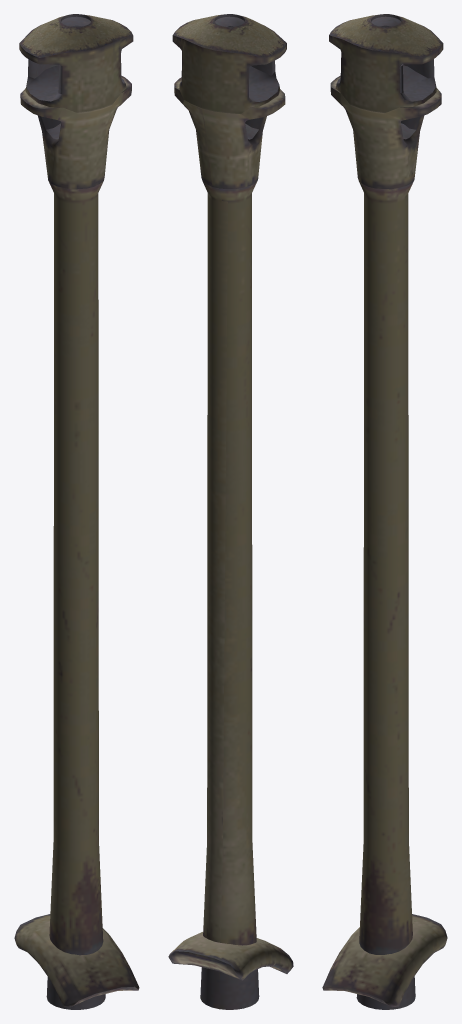
The model's file is Gun_06.glb.
3 views of the same model, side by side, from view 1: azimuth 30°, elevation 25°; view 2: azimuth 150°, elevation 25°; view 3: azimuth 330°, elevation 25° (orthographic).
Visible parts, largest first — view 1: set_0_group_0; view 2: set_0_group_0; view 3: set_0_group_0.
Boxes of the visible parts, box(x1,y1,x2,y2) form: set_0_group_0: box(14, 14, 139, 1009); set_0_group_0: box(168, 14, 293, 1009); set_0_group_0: box(322, 14, 447, 1009).
Bounding box in the file's own units: 0.4034 × 3.75 × 0.4138.
1 material, 1 textured.
